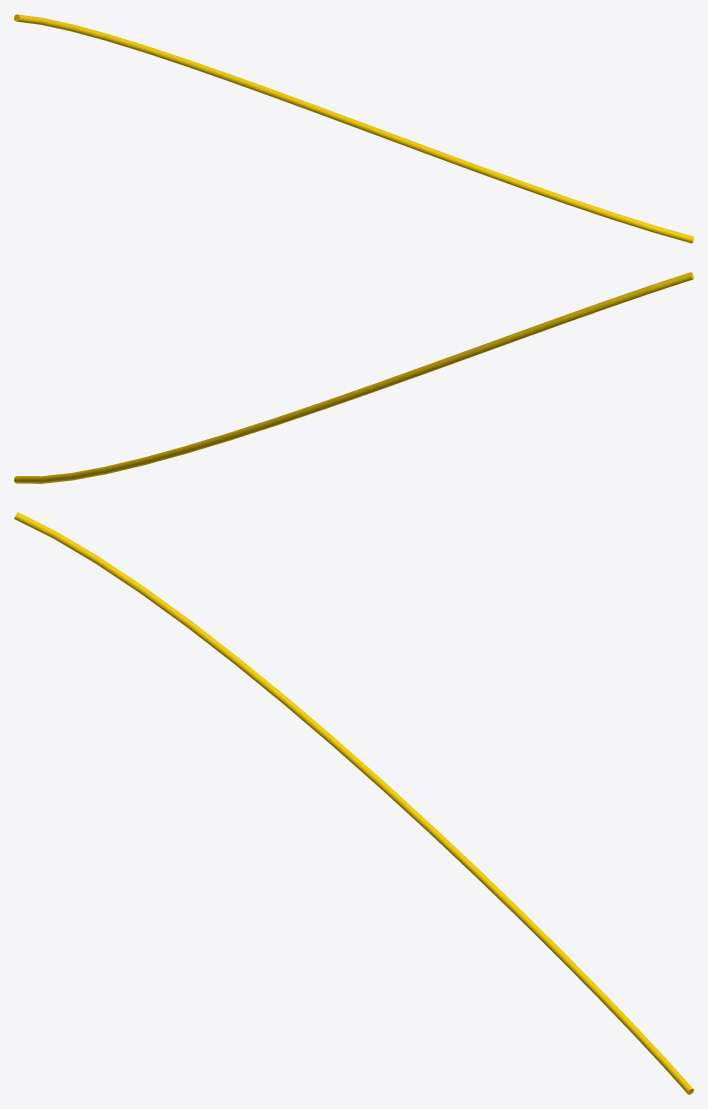
The model's file is Event_420094457_track_92.fbx.
3 views of the same model, one above another, from view 1: azimuth 30°, elevation 25°; view 2: azimuth 150°, elevation 25°; view 3: azimuth 330°, elevation 25° (orthographic). The views are drawn at different scales.
Visible parts, largest first — view 1: Model; view 2: Model; view 3: Model.
Boxes of the visible parts, bbox=[...] form: Model: bbox=[14, 14, 693, 243]; Model: bbox=[14, 272, 693, 483]; Model: bbox=[14, 512, 693, 1094].
Bounding box in the file's own units: 4.2 × 2.27 × 0.4851.
